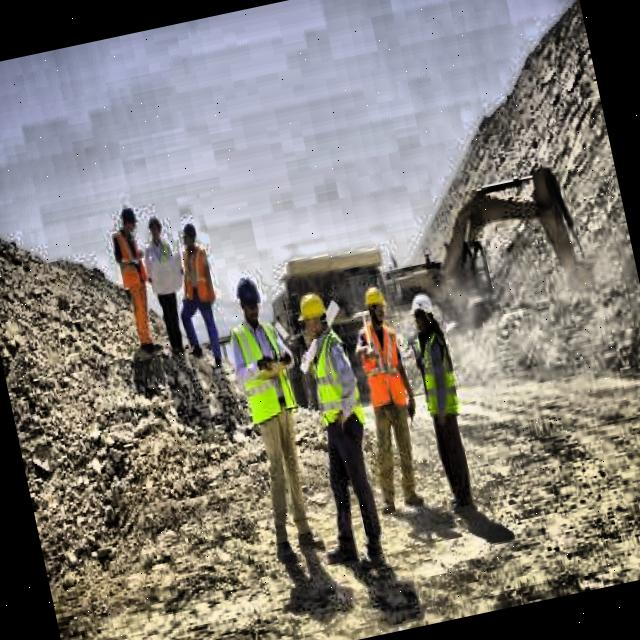helmet: (292, 282, 336, 345), (231, 269, 273, 330), (356, 278, 395, 330), (404, 288, 442, 336), (178, 220, 204, 257), (116, 202, 141, 240)
